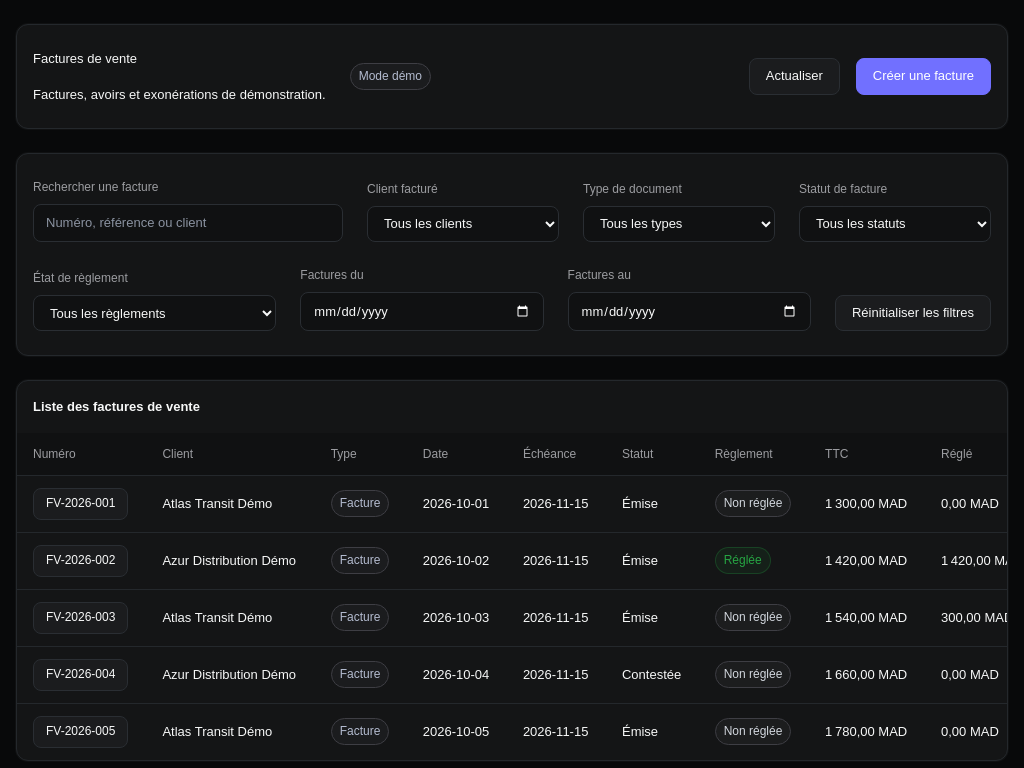
Test: Factures de vente › shows detail lines, VAT recap and invoice totals with clear currencies
This screenshot has width=1024, height=768.
Expected: the table "Liste des factures de vente" is shown, [17, 381, 1007, 760]
Click the button "FV-2026-001": coordinates (81, 504) [33, 488, 128, 520]
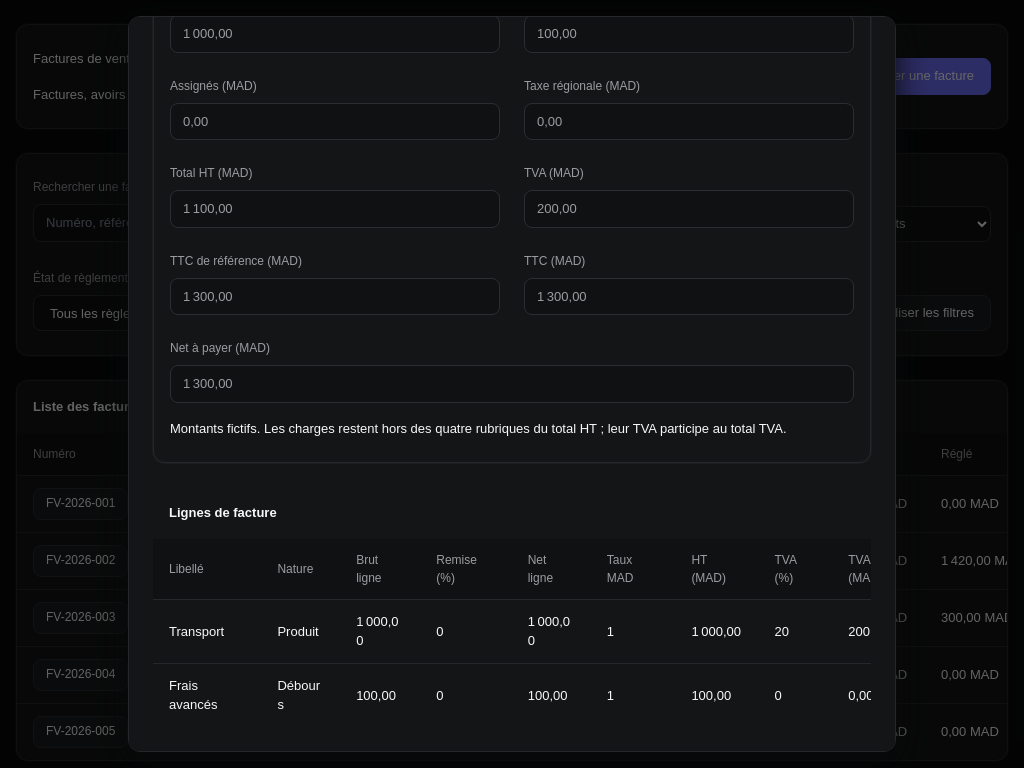
Expected: the dialog "Fiche facture de vente" is shown
Expected: the table "Lignes de facture" is shown, [153, 487, 871, 727]
Expected: the field labelled "Total HT (MAD)" holds "1 100,00", [170, 190, 500, 228]
